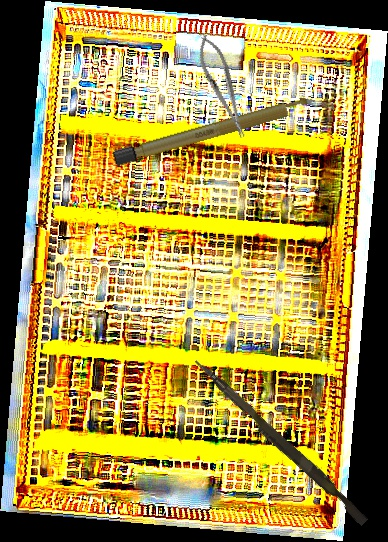Needle Holder: (191, 31, 254, 142)
Pusher: (187, 357, 373, 527)
Scalpel Handle: (111, 93, 319, 168)
